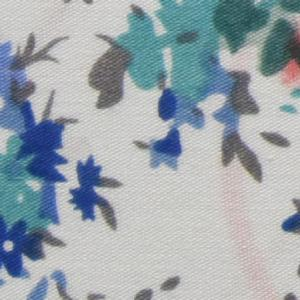Stain: (208, 142, 284, 300), (278, 14, 300, 91)
